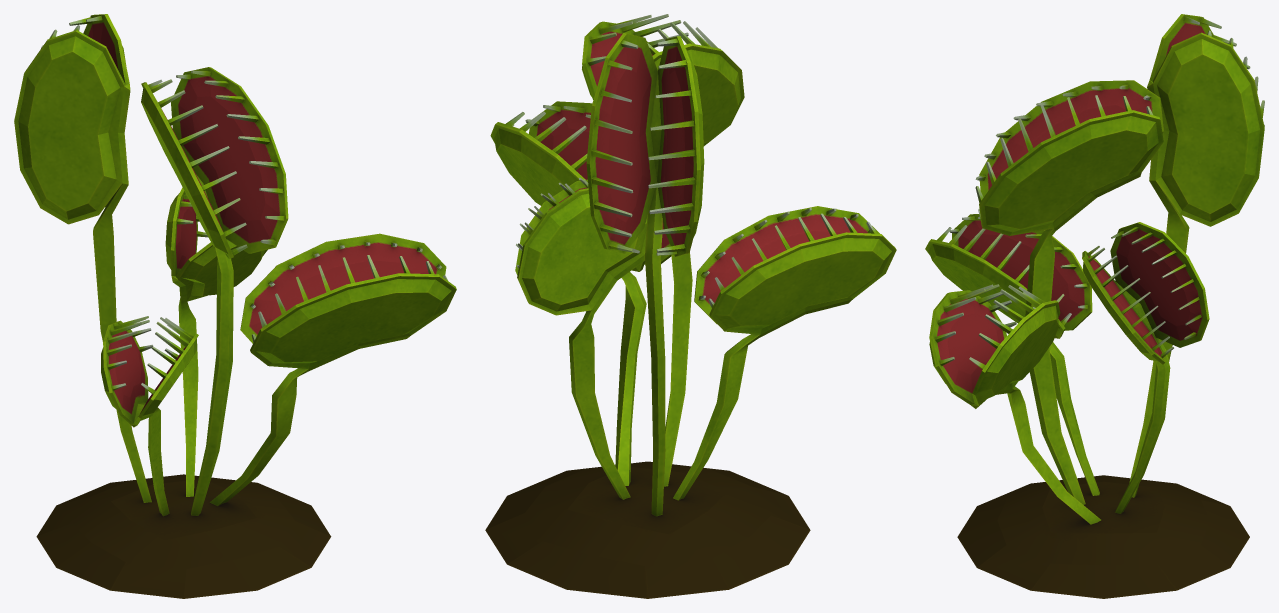
Rendered from fly_trap.glb.
3 renders of one model, left to right at view 1: azimuth 30°, elevation 25°; view 2: azimuth 150°, elevation 25°; view 3: azimuth 270°, elevation 25°, orthographic. The views are drawn at different scales.
Parts seen in each view (by area): view 1: Object_4; view 2: Object_4; view 3: Object_4.
Part boxes in pixels (left/top/right/bottom): Object_4: left=14, top=14, right=456, bottom=598; Object_4: left=485, top=14, right=896, bottom=598; Object_4: left=925, top=14, right=1264, bottom=598.
Size of the model in its own units: 8.08 by 10.81 by 6.79.
1 material, 1 textured.
